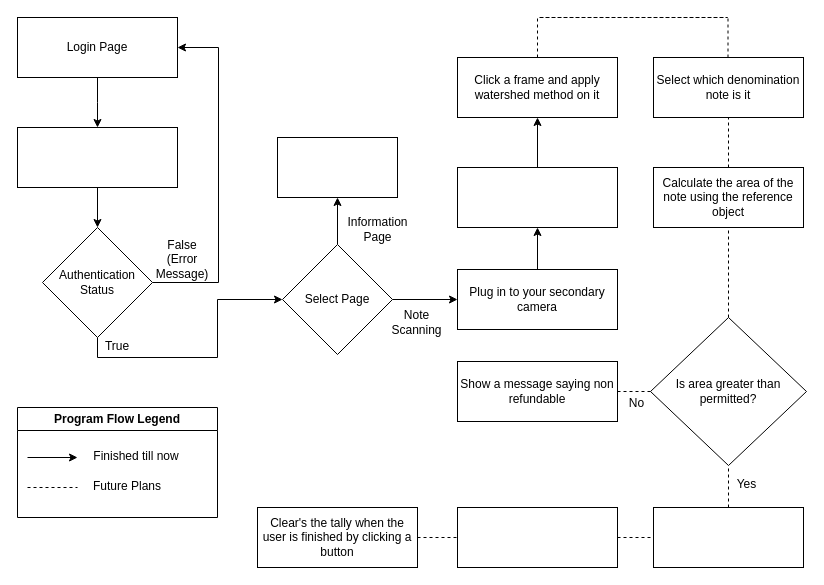
The diagram is 824 pixels wide and 585 high, and some of its shapes have lost their labels. Here are the shapes that lost their labels. From the top down, the centre of each, then its label:
point (97, 157): Enter Username and Password
point (337, 167): Read Information about the rules and amendments
point (537, 197): Start the live feed and the watershed medthod automatically starts working live
point (537, 537): Increase the count of number of notes of that particular denomination by +1
point (728, 537): Shows a message saying its refundable
